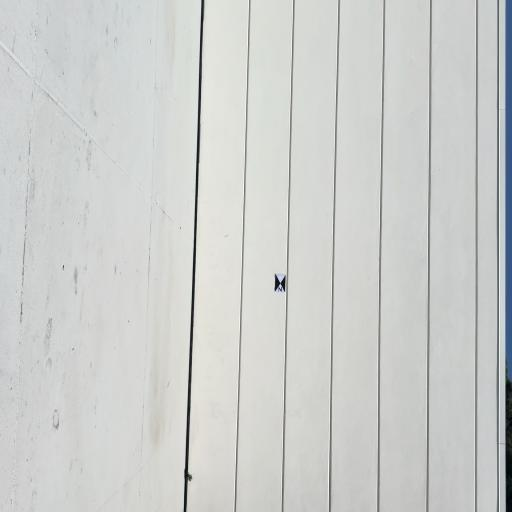target7: (275, 273, 285, 292)
